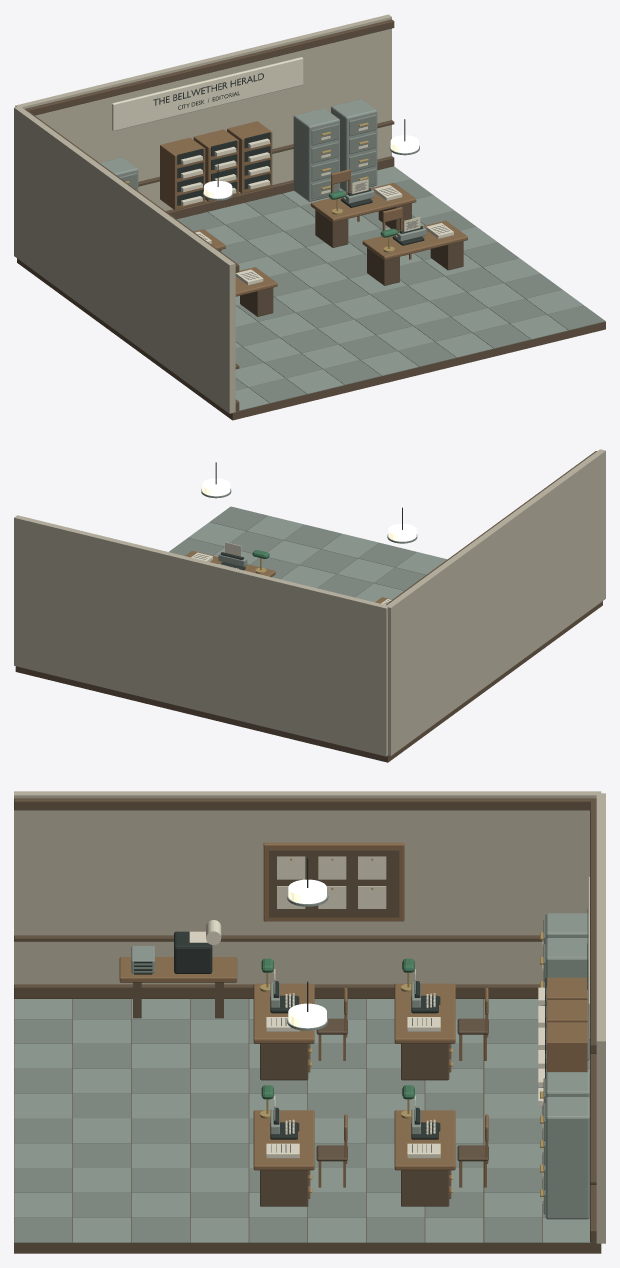
Rendered from interior-herald.glb.
3 renders of one model, top to bottom at view 1: azimuth 30°, elevation 25°; view 2: azimuth 150°, elevation 25°; view 3: azimuth 270°, elevation 25°, orthographic. The views are drawn at different scales.
Visible parts, largest first — view 1: left plaster, linoleum tile, linoleum tile.001, back plaster, newsroom foundation, file label, back moulding, filing cabinet, chair leg, copy pigeonhole, file drawer, pigeonhole opening (+4 smaller); view 2: back plaster, left plaster, linoleum tile, linoleum tile.001, newsroom foundation, newsroom pendant, side moulding; view 3: left plaster, linoleum tile, linoleum tile.001, side moulding, newsroom foundation, chair leg, filing cabinet, back plaster, copy pigeonhole, typewriter foot, pinned clipping, paper in platen (+5 smaller).
Boxes of the visible parts, x1=… form: left plaster: x1=14, y1=107, x2=235, y2=413; linoleum tile: x1=203, y1=145, x2=583, y2=411; linoleum tile.001: x1=177, y1=179, x2=605, y2=403; back plaster: x1=15, y1=14, x2=391, y2=210; newsroom foundation: x1=17, y1=192, x2=605, y2=420; file label: x1=112, y1=57, x2=367, y2=205; back moulding: x1=25, y1=19, x2=394, y2=219; filing cabinet: x1=100, y1=99, x2=377, y2=201; chair leg: x1=194, y1=169, x2=467, y2=296; copy pigeonhole: x1=160, y1=121, x2=272, y2=210; file drawer: x1=119, y1=115, x2=376, y2=199; pigeonhole opening: x1=177, y1=132, x2=270, y2=205; back plaster: x1=14, y1=515, x2=388, y2=756; left plaster: x1=386, y1=449, x2=605, y2=755; linoleum tile: x1=188, y1=488, x2=446, y2=602; linoleum tile.001: x1=169, y1=506, x2=425, y2=597; newsroom foundation: x1=15, y1=601, x2=602, y2=762; newsroom pendant: x1=202, y1=478, x2=416, y2=541; side moulding: x1=386, y1=451, x2=596, y2=605; left plaster: x1=14, y1=791, x2=601, y2=984; linoleum tile: x1=14, y1=893, x2=596, y2=1242; linoleum tile.001: x1=14, y1=999, x2=589, y2=1242; side moulding: x1=14, y1=798, x2=596, y2=998; newsroom foundation: x1=14, y1=982, x2=601, y2=1253; chair leg: x1=119, y1=957, x2=488, y2=1198; filing cabinet: x1=545, y1=913, x2=589, y2=1219; back plaster: x1=596, y1=793, x2=605, y2=1243; copy pigeonhole: x1=546, y1=977, x2=587, y2=1072; typewriter foot: x1=134, y1=857, x2=440, y2=1152; pinned clipping: x1=277, y1=856, x2=386, y2=908; paper in platen: x1=189, y1=920, x2=440, y2=1158.
Bounding box in the file's own units: 10.08 × 3.99 × 10.08.
